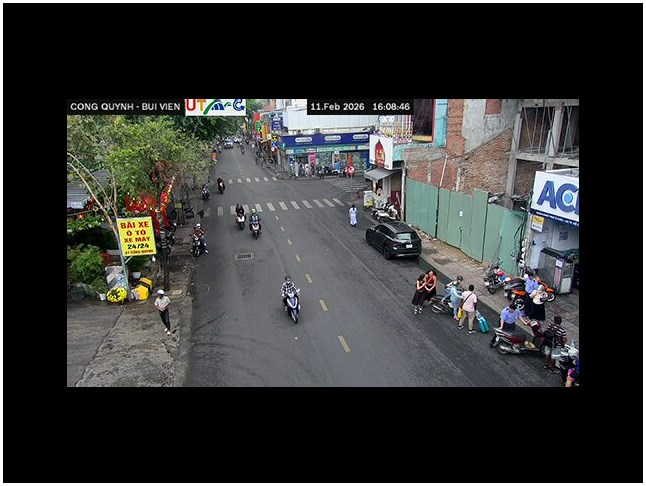car: (365, 218, 422, 260)
motorbike: (281, 278, 300, 322), (248, 212, 262, 239)
